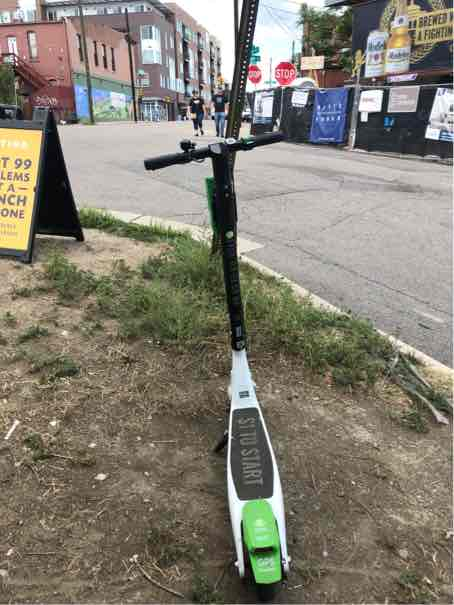scooter: (138, 131, 316, 590)
